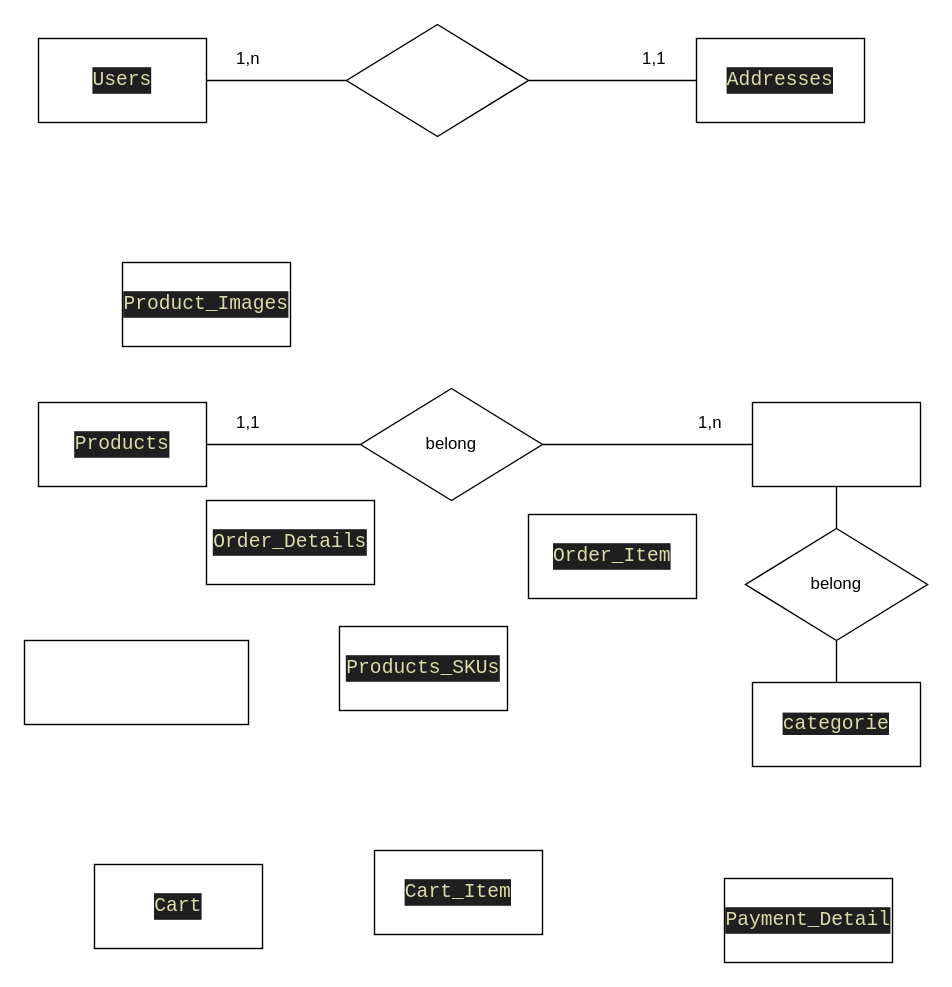
Image size: 952x987. Some labels were removed from this diagram. The shapes that lost their labels are listed below. From the top down, each one's centre as x and y in pixels, then its label:
the point at 436,79: have
the point at 835,443: sub_categorie
the point at 135,681: Product_Attributes
